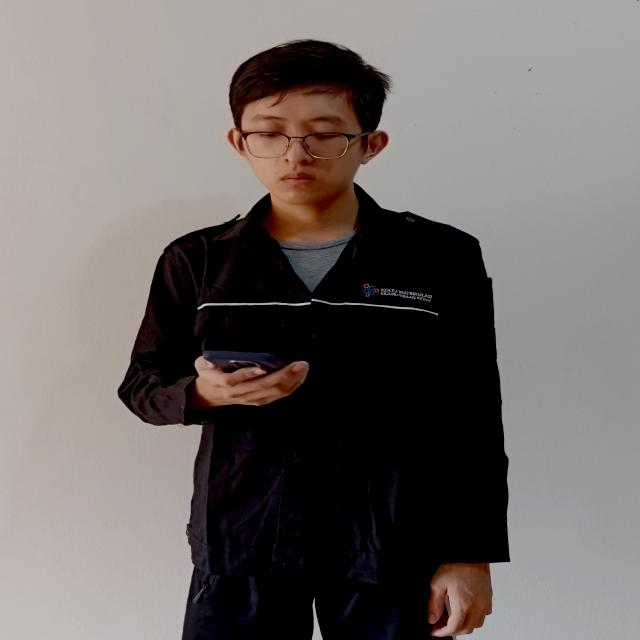person_with_labcoat: (118, 40, 509, 640)
